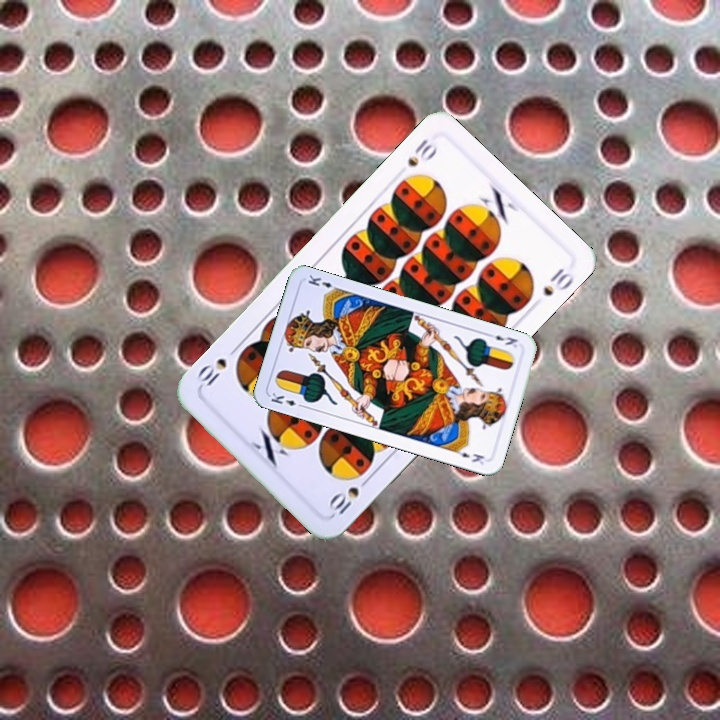EK: (267, 389, 307, 410), (483, 329, 520, 350)
S10: (324, 472, 374, 519), (403, 134, 440, 170)
